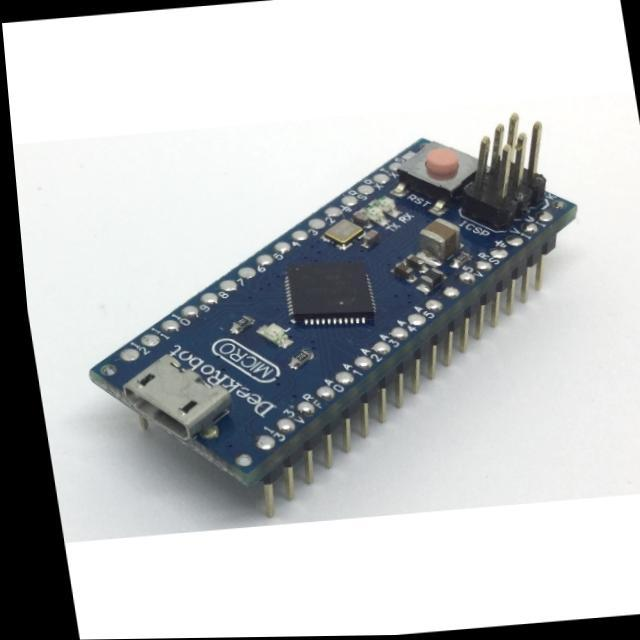Arduino-Micro: (91, 116, 577, 511)
